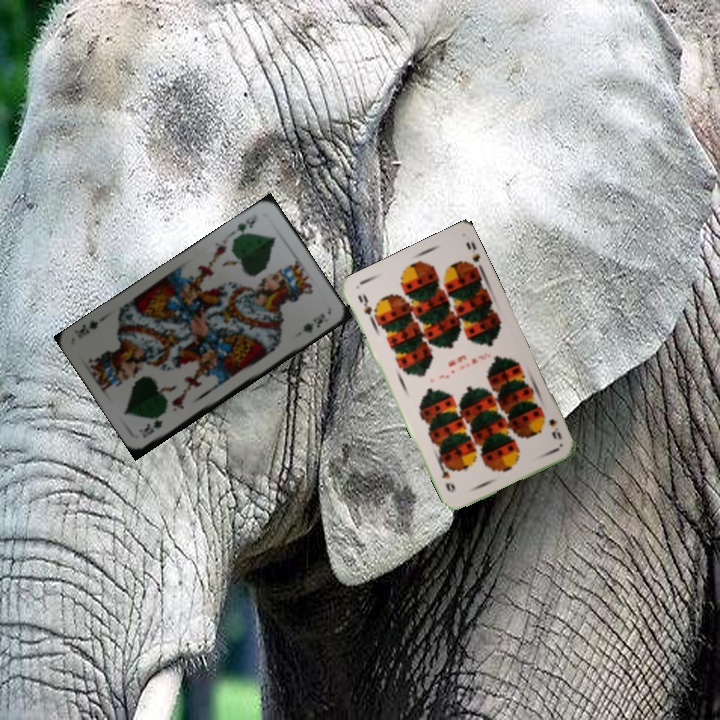GK: (232, 210, 260, 241), (136, 416, 165, 440)
S9: (354, 291, 379, 325), (545, 415, 564, 442)
